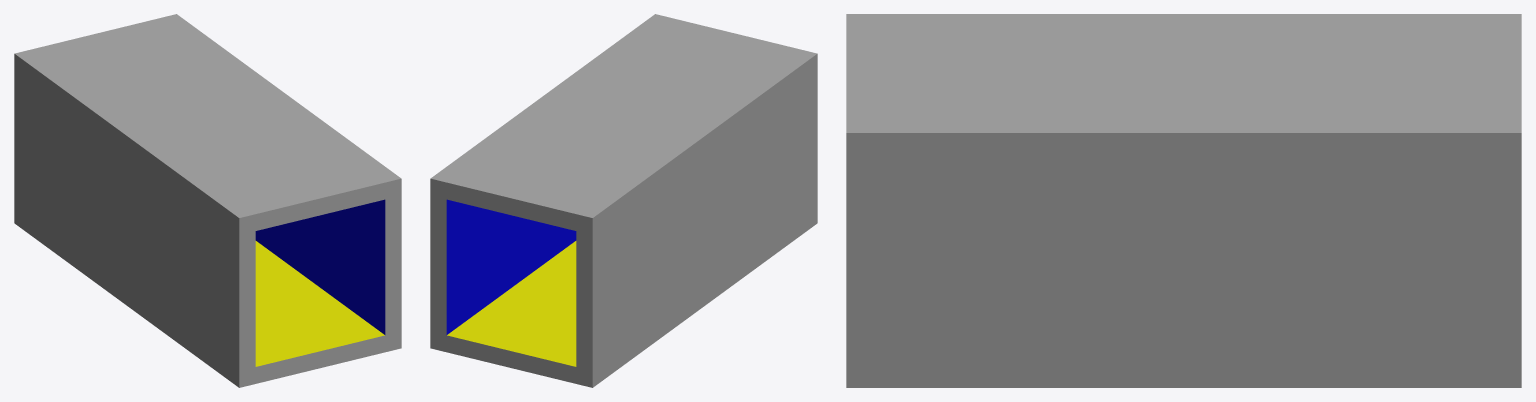
File: hallway.fbx
The picture shows the model from 3 angles, left to right: view 1: azimuth 30°, elevation 25°; view 2: azimuth 150°, elevation 25°; view 3: azimuth 270°, elevation 25°; orthographic projection. The views are drawn at different scales.
Parts seen in each view (by area): view 1: hallway_hollow; view 2: hallway_hollow; view 3: hallway_hollow.
Part boxes in pixels (x1=…): hallway_hollow: x1=14, y1=14, x2=401, y2=387; hallway_hollow: x1=430, y1=14, x2=817, y2=387; hallway_hollow: x1=846, y1=14, x2=1521, y2=387.
Bounding box in the file's own units: 0.05 × 0.05 × 0.12.
